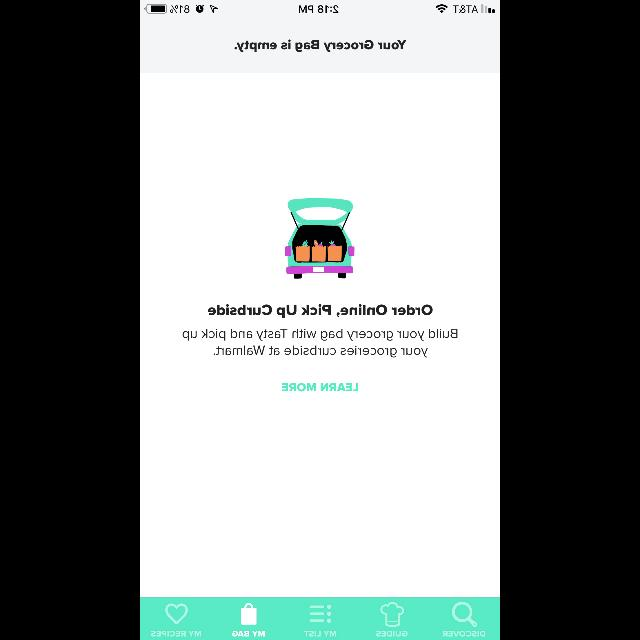icon: (452, 602, 476, 626), (166, 604, 188, 624), (309, 605, 331, 623), (241, 603, 257, 625)
image: (285, 198, 355, 278), (380, 602, 404, 626)
text: (182, 328, 458, 358), (208, 304, 432, 318), (234, 40, 406, 52), (282, 383, 358, 391), (151, 631, 201, 637), (442, 631, 486, 637), (304, 631, 336, 637), (232, 631, 264, 637), (377, 631, 408, 637)
uppertaskbar: (140, 0, 500, 14)
